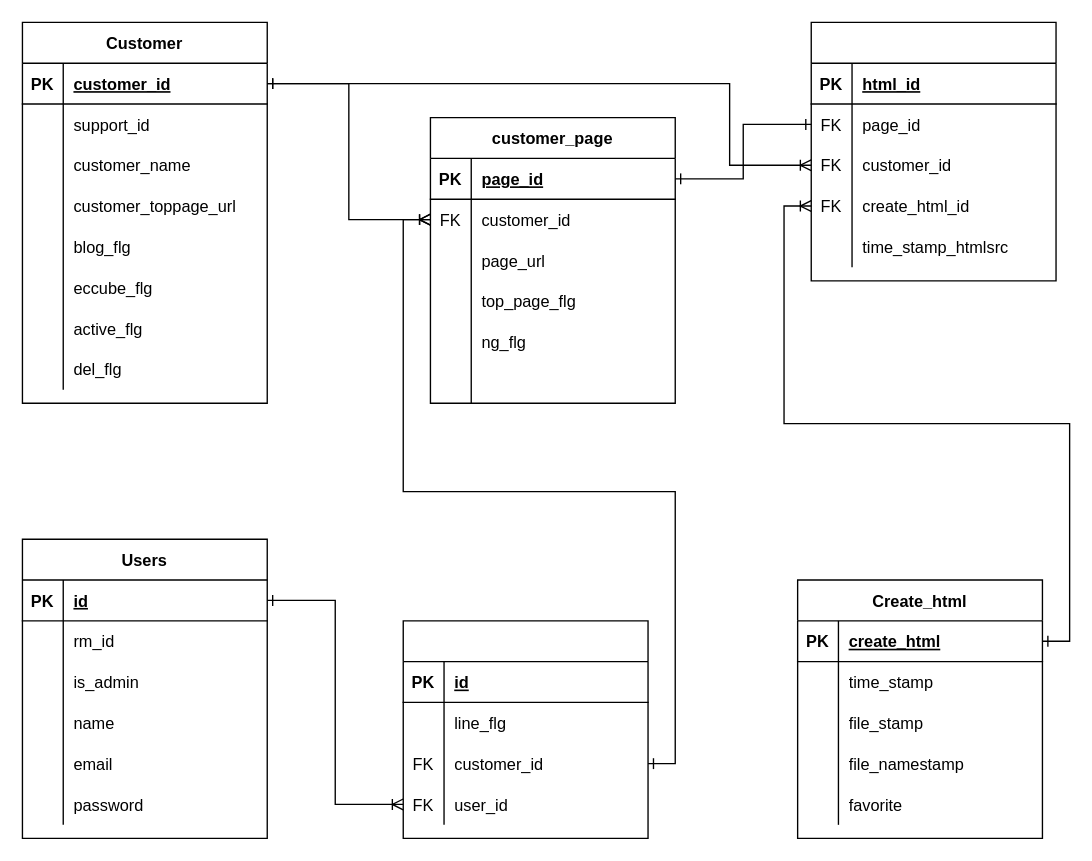
Image size: 1092x861. Some labels were removed from this diagram. Here are the shapes that lost their labels. From the top down, the box of each, then its label:
(810, 21, 1056, 281): Page_html
(402, 619, 648, 838): Line_register
